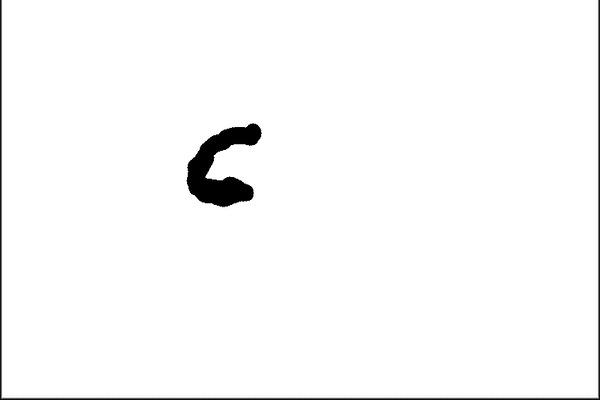C: (181, 120, 264, 208)
